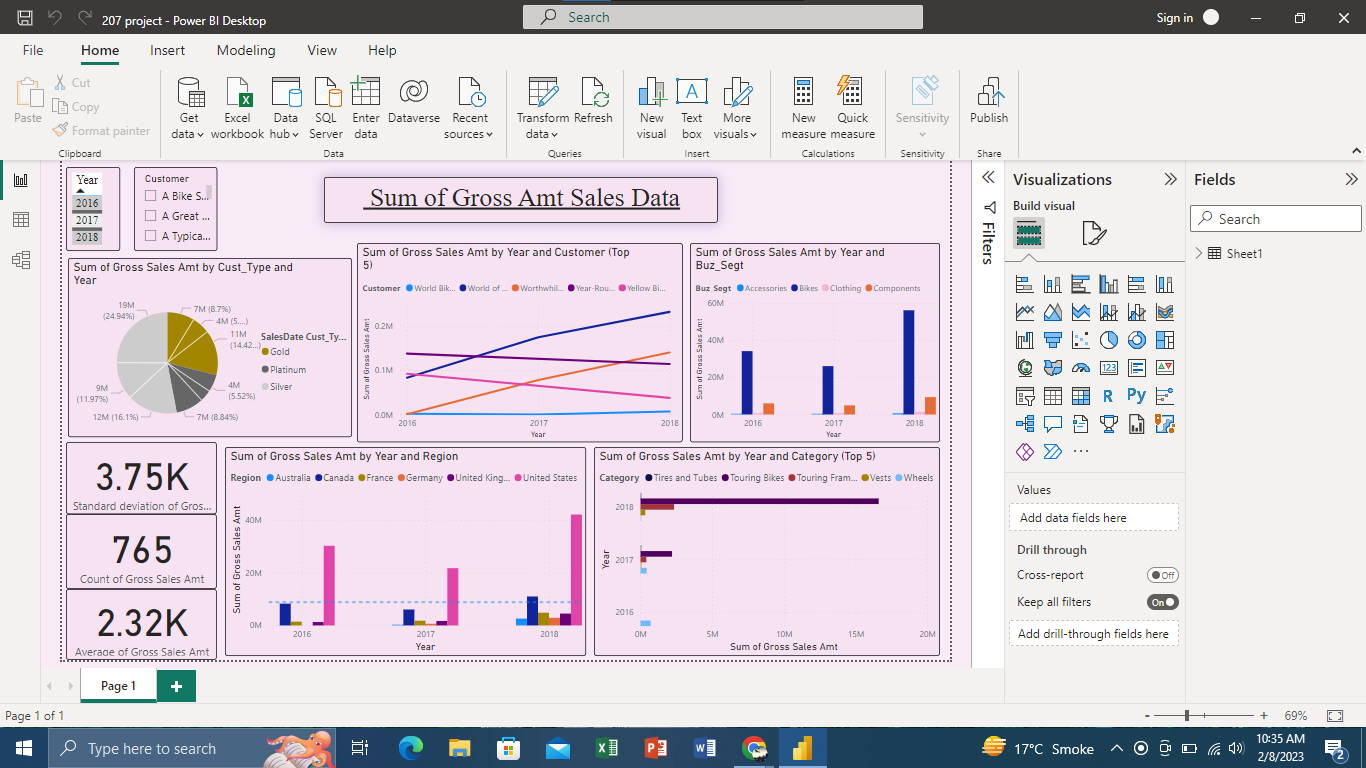

This screenshot's page, from the dashboard's own definition file:
{"tool":"powerbi","page":{"name":"Page 1","canvas":[1280,720],"ordinal":0},"visuals":[{"type":"textbox","box":[377.3,24.5,567.4,66.2],"z":0},{"type":"clusteredBarChart","title":"Sum of Gross Sales Amt by Year and Category (Top 5)","fields":{"Category":["Sheet1.SalesDate.Variation.Date Hierarchy.Year"],"Y":["Sum(Sheet1.Gross Sales Amt)"],"Series":["Sheet1.Category"]},"box":[766.1,413.3,498.2,301],"z":1000},{"type":"tableEx","fields":{"Values":["Sheet1.SalesDate.Variation.Date Hierarchy.Year"]},"box":[5.8,10.1,77.8,121],"z":2000},{"type":"card","fields":{"Values":["Sum(Sheet1.Gross Sales Amt)"]},"box":[5.8,406.1,217.4,103.7],"z":3000},{"type":"card","fields":{"Values":["Count(Sheet1.Gross Sales Amt)"]},"box":[5.8,509.8,217.4,108],"z":4000},{"type":"card","fields":{"Values":["Avg(Sheet1.Gross Sales Amt)"]},"box":[5.8,617.8,217.4,102.2],"z":5000},{"type":"lineChart","title":"Sum of Gross Sales Amt by Year and Customer (Top 5)","fields":{"Category":["Sheet1.SalesDate.Variation.Date Hierarchy.Year"],"Series":["Sheet1.Customer"],"Y":["Sum(Sheet1.Gross Sales Amt)"]},"box":[424.8,119.5,469.4,286.6],"z":6000},{"type":"clusteredColumnChart","fields":{"Category":["Sheet1.SalesDate.Variation.Date Hierarchy.Year"],"Y":["Sum(Sheet1.Gross Sales Amt)"],"Series":["Sheet1.Buz_Segt"]},"box":[904.3,119.5,360,286.6],"z":7000},{"type":"clusteredColumnChart","fields":{"Category":["Sheet1.SalesDate.Variation.Date Hierarchy.Year"],"Y":["Sum(Sheet1.Gross Sales Amt)"],"Series":["Sheet1.Region"]},"box":[234.7,413.3,519.8,301],"z":8000},{"type":"slicer","fields":{"Values":["Sheet1.Customer"]},"box":[103.7,10.1,119.5,121],"z":9000},{"type":"pieChart","fields":{"Series":["Sheet1.SalesDate.Variation.Date Hierarchy.Year"],"Category":["Sheet1.Cust_Type"],"Y":["Sum(Sheet1.Gross Sales Amt)"]},"box":[8.6,141.1,409,257.8],"z":10000}]}

Visuals, with their boxes on the page's 1280x720 design canvas (x1, y1, x2, y2). These are canvas units, not pixel positions in the 1366x768 screenshot, which may show the page scaled, cropped or inside an application window:
textbox: left=377, top=24, right=945, bottom=91
"Sum of Gross Sales Amt by Year and Category (Top 5)" clusteredBarChart: left=766, top=413, right=1264, bottom=714
tableEx - Sheet1.SalesDate.Variation.Date Hierarchy.Year: left=6, top=10, right=84, bottom=131
card - Sum(Sheet1.Gross Sales Amt): left=6, top=406, right=223, bottom=510
card - Count(Sheet1.Gross Sales Amt): left=6, top=510, right=223, bottom=618
card - Avg(Sheet1.Gross Sales Amt): left=6, top=618, right=223, bottom=720
"Sum of Gross Sales Amt by Year and Customer (Top 5)" lineChart: left=425, top=120, right=894, bottom=406
clusteredColumnChart - Sheet1.SalesDate.Variation.Date Hierarchy.Year x Sum(Sheet1.Gross Sales Amt): left=904, top=120, right=1264, bottom=406
clusteredColumnChart - Sheet1.SalesDate.Variation.Date Hierarchy.Year x Sum(Sheet1.Gross Sales Amt): left=235, top=413, right=754, bottom=714
slicer - Sheet1.Customer: left=104, top=10, right=223, bottom=131
pieChart - Sheet1.SalesDate.Variation.Date Hierarchy.Year x Sheet1.Cust_Type: left=9, top=141, right=418, bottom=399
